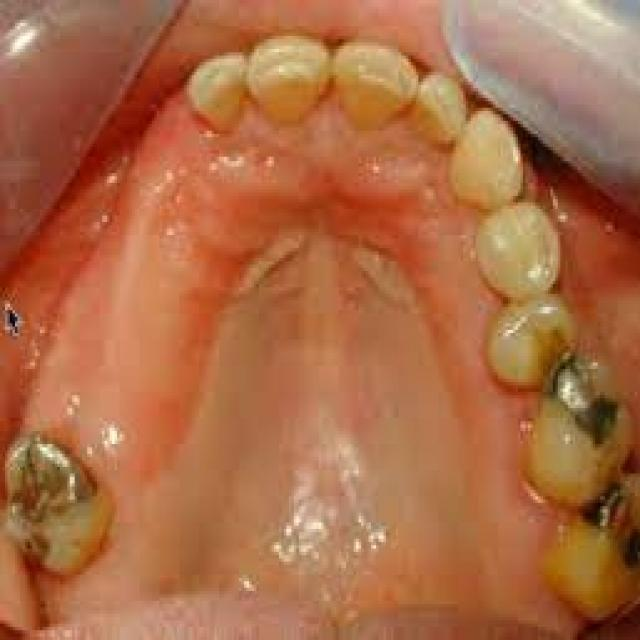Missing: (2, 336, 153, 574), (132, 57, 239, 221)
